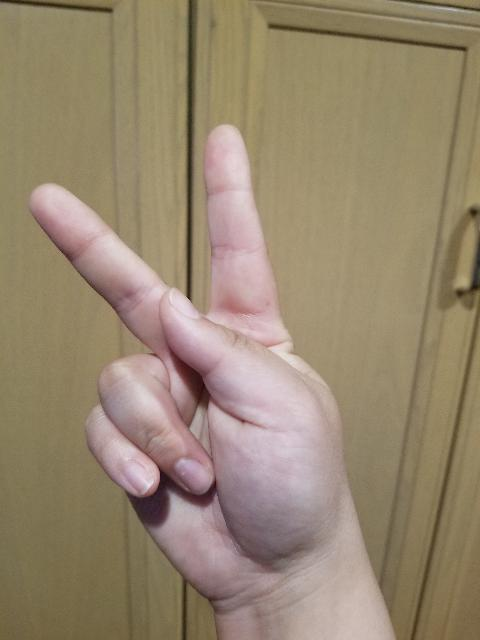K: (21, 117, 366, 606)
